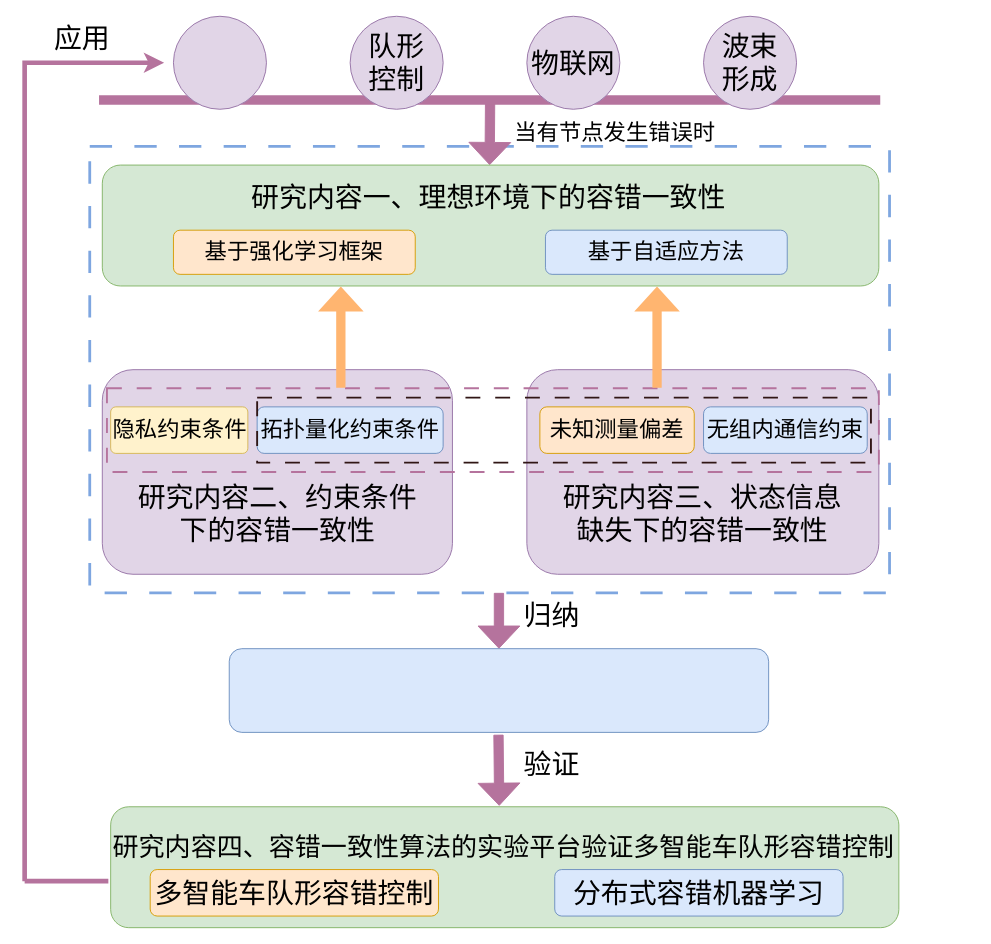
Image size: 991x944. Some labels were removed from this diagram. Here are the shapes that lost their labels. From the top down, the centre of each, then its label:
pixel 219 62: 联邦 学习
pixel 498 690: 基于自学习思想的容错一致性架构
